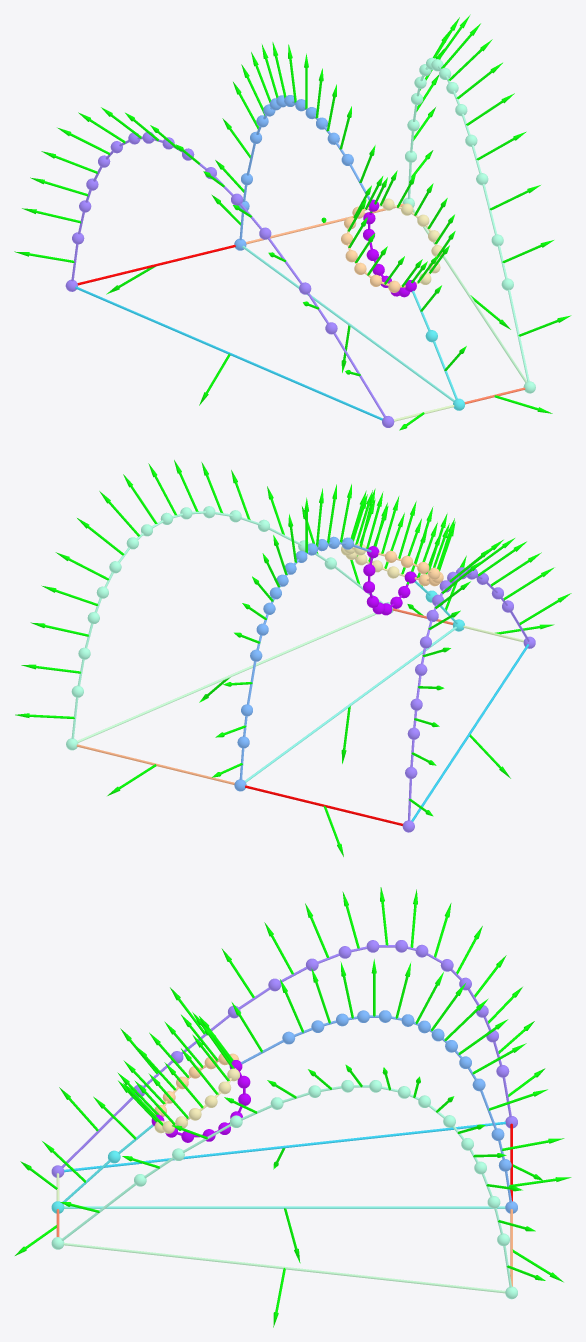
The model's file is onshape_simple_mouse.gltf.
The picture shows the model from 3 angles, top to bottom: view 1: azimuth 30°, elevation 25°; view 2: azimuth 150°, elevation 25°; view 3: azimuth 270°, elevation 25°; orthographic projection. The views are drawn at different scales.
Size of the model in its own units: 0.7822 by 0.5246 by 0.8677.
